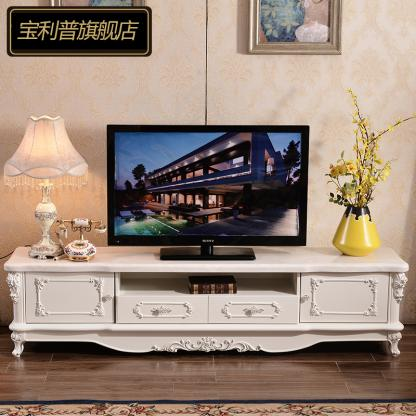TV stand: (7, 242, 400, 360)
